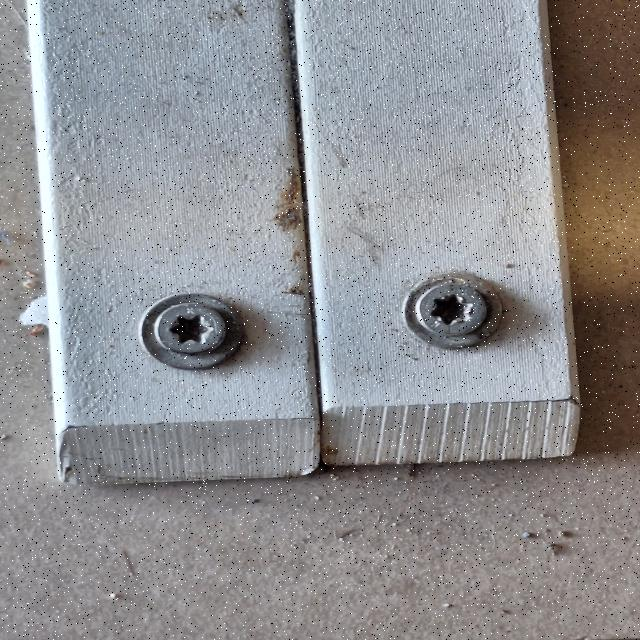Torx: (416, 278, 490, 336), (152, 305, 230, 353)
